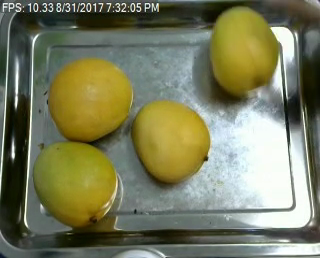Mango: (33, 141, 117, 227), (49, 57, 131, 142), (131, 100, 210, 182), (209, 7, 280, 94)
